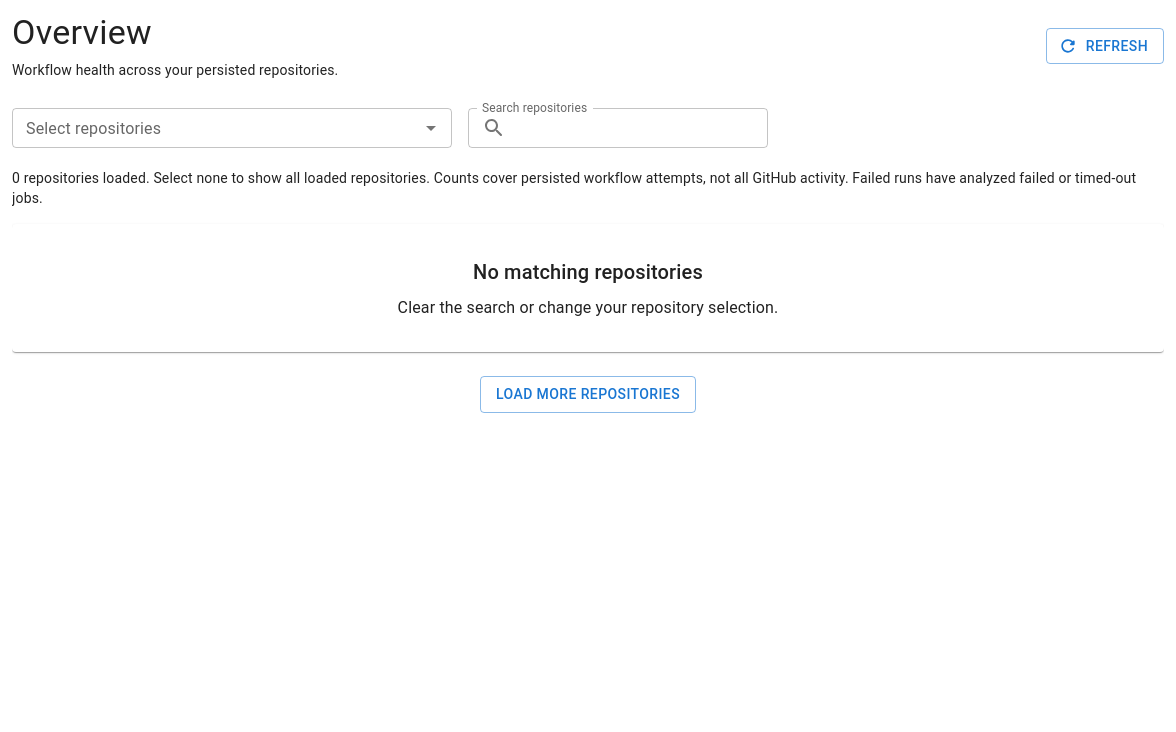
repository dashboard › loads continuation pages explicitly even if a page is empty
What coordinates should you click on to do the following:
click the button "Load more repositories"
I would click on:
 (588, 394)
Its box is [480,376,696,412].
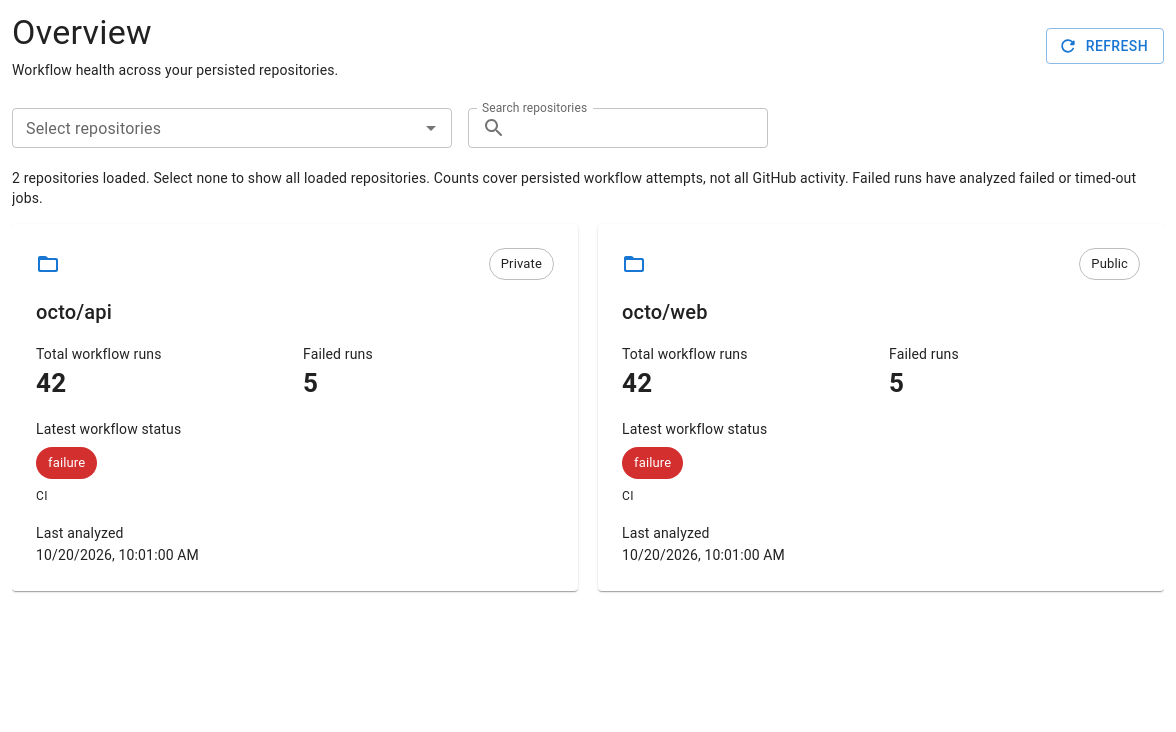
Check: the button "Load more repositories" is gone
